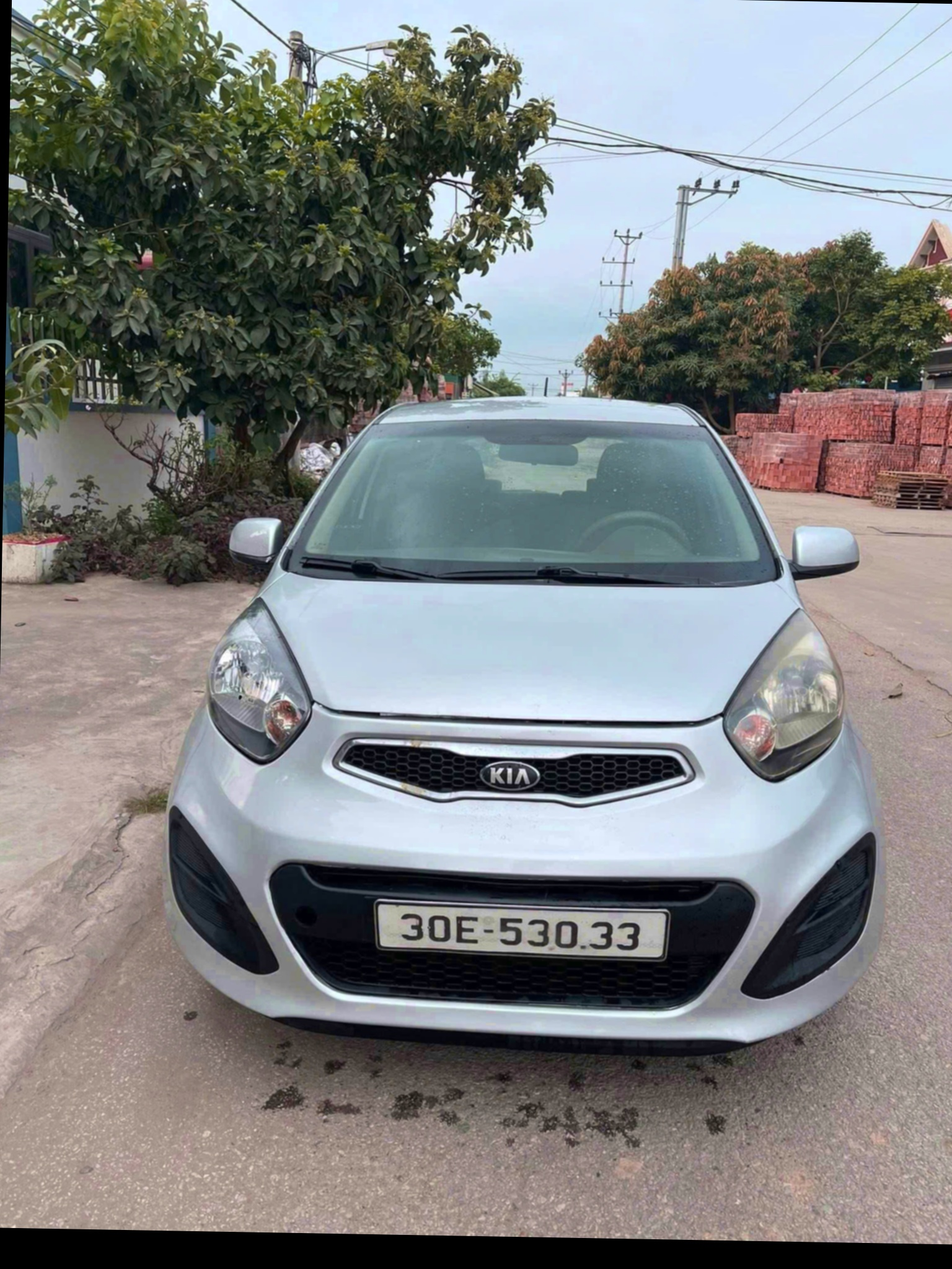Bien-so: (375, 928, 657, 981)
